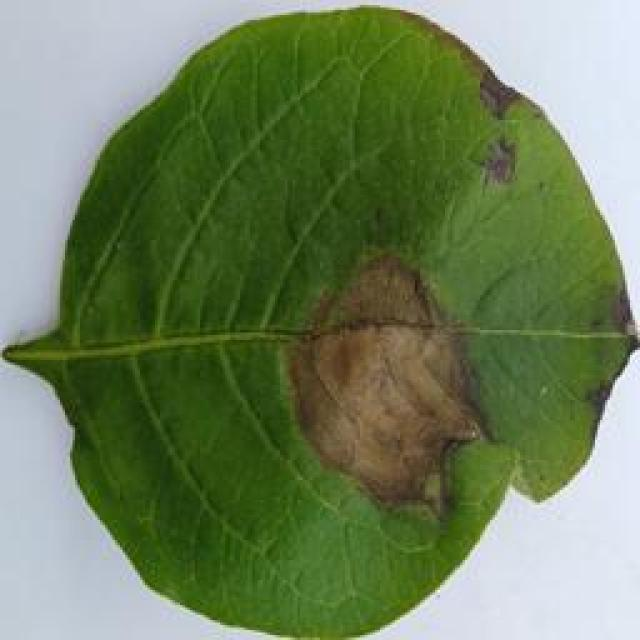Potato_Late_Blight: (4, 8, 628, 634)
